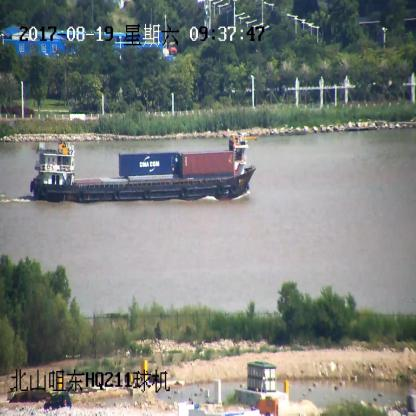Container Ship: (30, 136, 257, 203)
